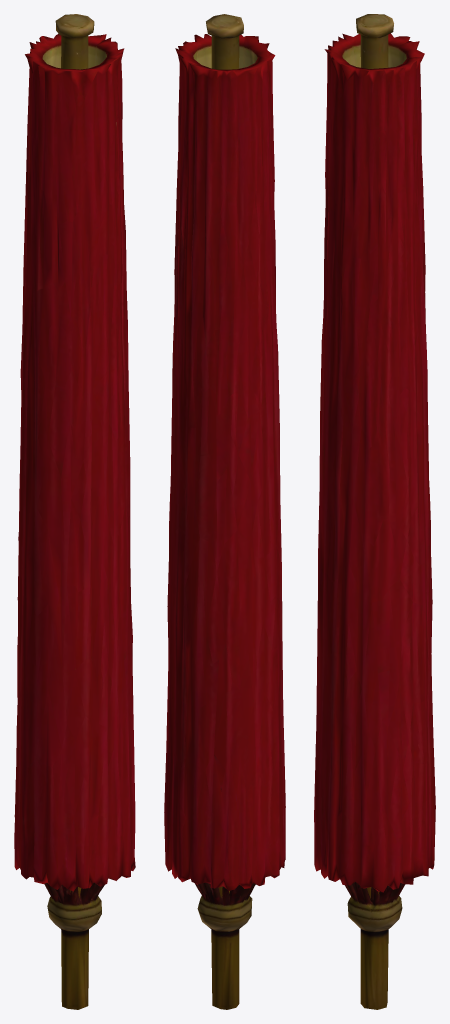
File: wagasa.glb
3 views of the same model, side by side, from view 1: azimuth 30°, elevation 25°; view 2: azimuth 150°, elevation 25°; view 3: azimuth 330°, elevation 25° (orthographic).
Parts seen in each view (by area): view 1: tripo_node_f5d38010-58f1-4cd7-befe-84b46c566996; view 2: tripo_node_f5d38010-58f1-4cd7-befe-84b46c566996; view 3: tripo_node_f5d38010-58f1-4cd7-befe-84b46c566996.
Boxes of the visible parts, x1=… form: tripo_node_f5d38010-58f1-4cd7-befe-84b46c566996: x1=14, y1=14, x2=135, y2=1009; tripo_node_f5d38010-58f1-4cd7-befe-84b46c566996: x1=164, y1=14, x2=285, y2=1009; tripo_node_f5d38010-58f1-4cd7-befe-84b46c566996: x1=314, y1=14, x2=435, y2=1009.
Bounding box in the file's own units: 0.1128 × 1 × 0.1058.
Materials: 1 (1 with a texture image).
